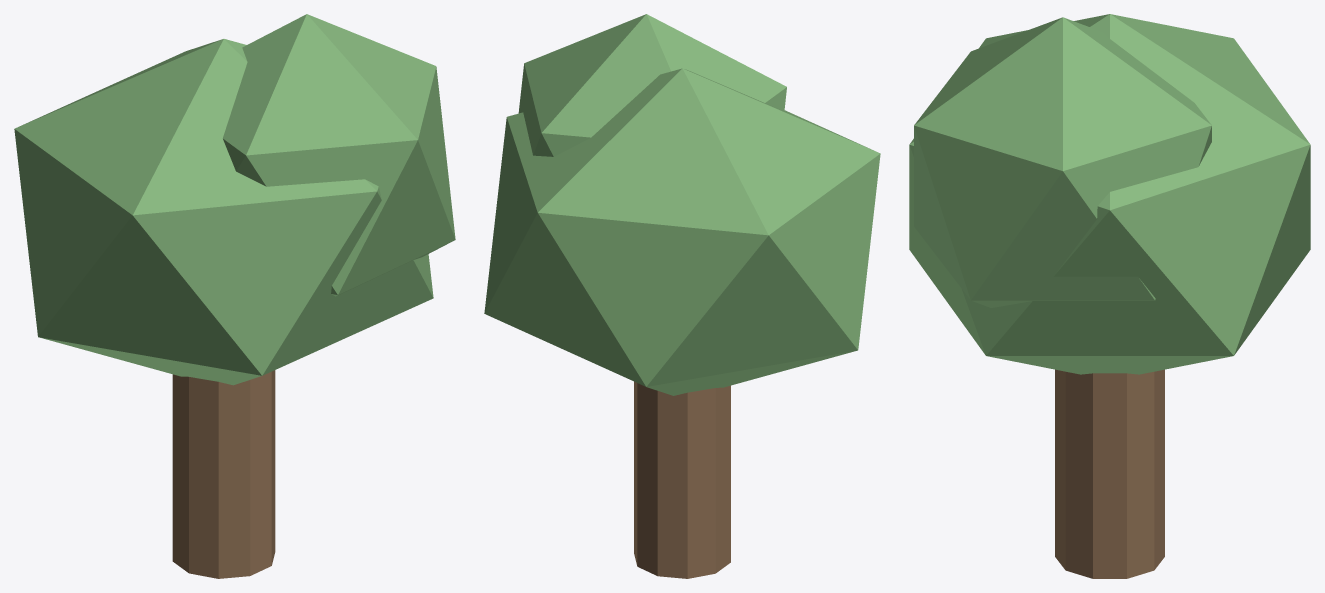
The model's file is tree_oak.glb.
3 views of the same model, side by side, from view 1: azimuth 30°, elevation 25°; view 2: azimuth 150°, elevation 25°; view 3: azimuth 270°, elevation 25° (orthographic). The views are drawn at different scales.
Visible parts, largest first — view 1: tree_oak; view 2: tree_oak; view 3: tree_oak.
Boxes of the visible parts, x1=… form: tree_oak: x1=14, y1=14, x2=455, y2=578; tree_oak: x1=484, y1=14, x2=880, y2=578; tree_oak: x1=909, y1=14, x2=1310, y2=578.
Size of the model in its own units: 1.74 by 2.41 by 1.54.
